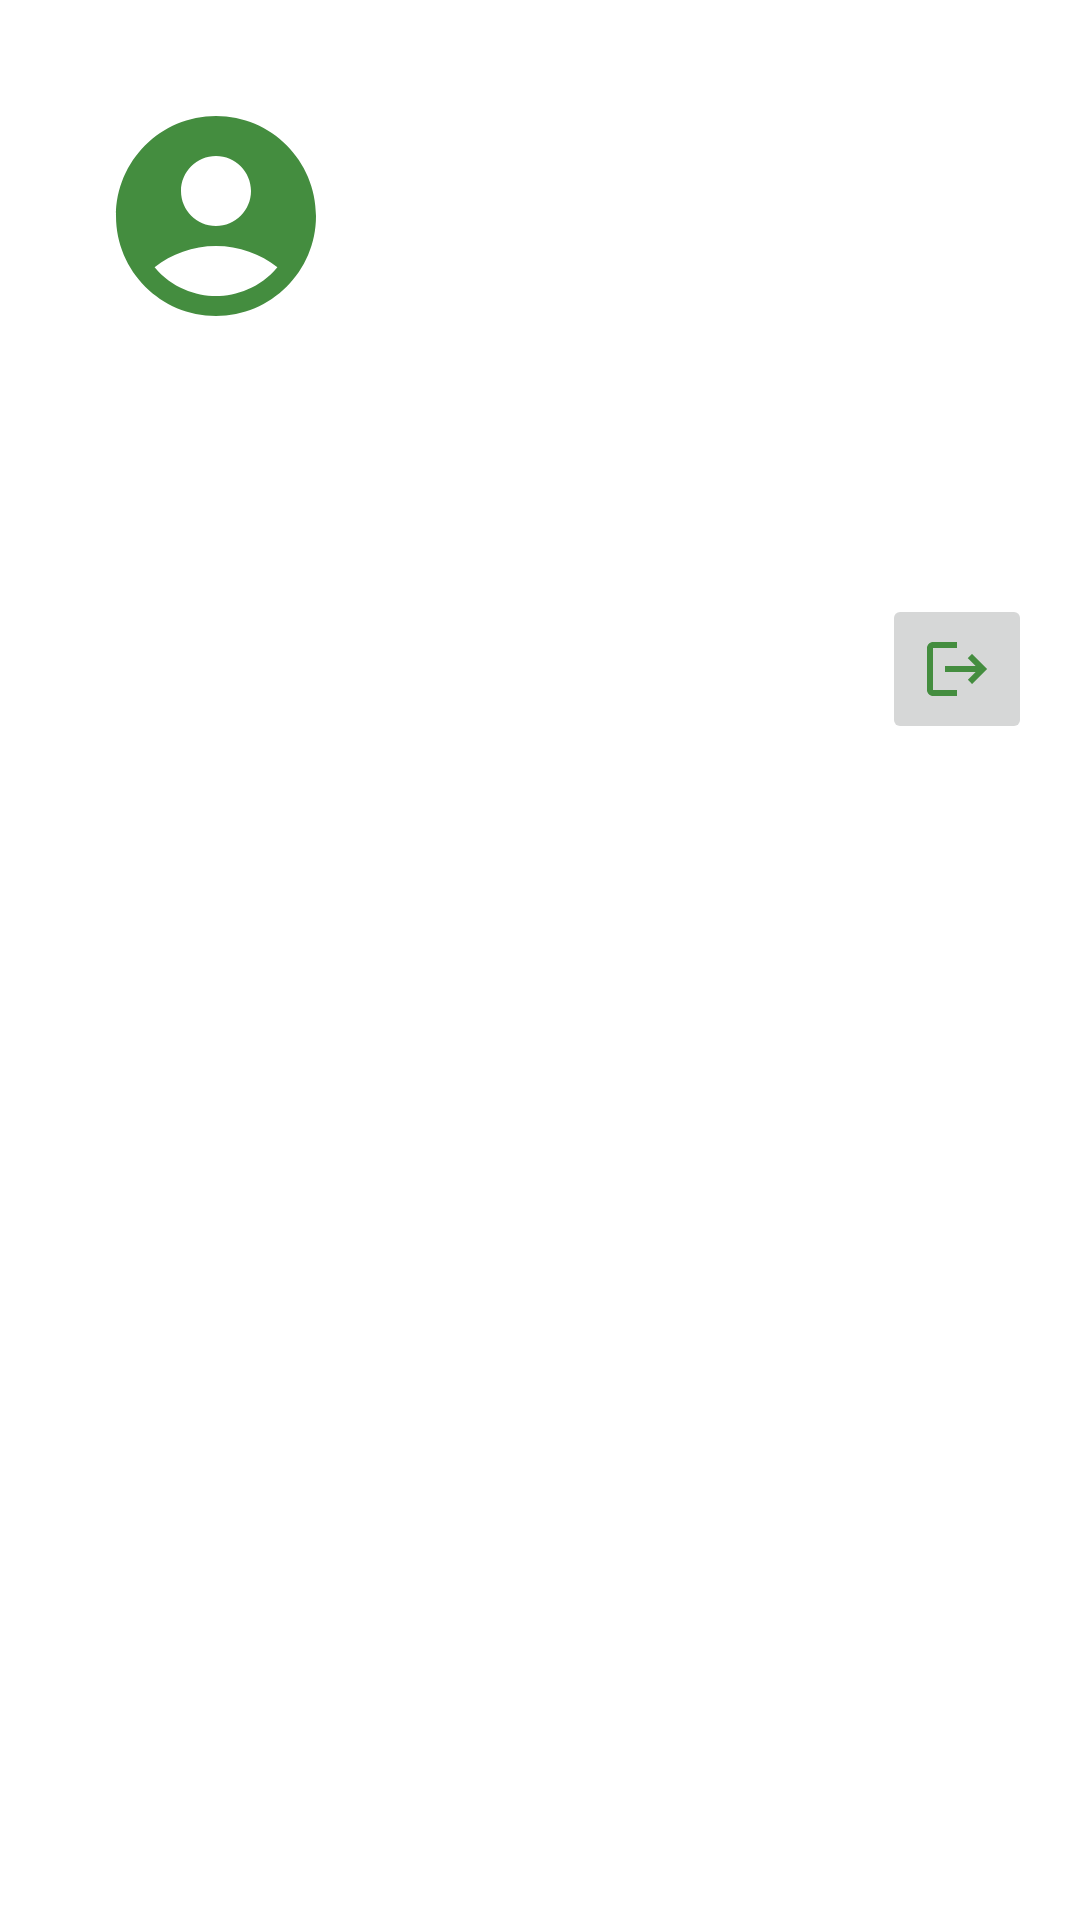

Named icons in this screenshot (1080x1920) and their centers, point (x, y):
account circle: point (216, 216)
